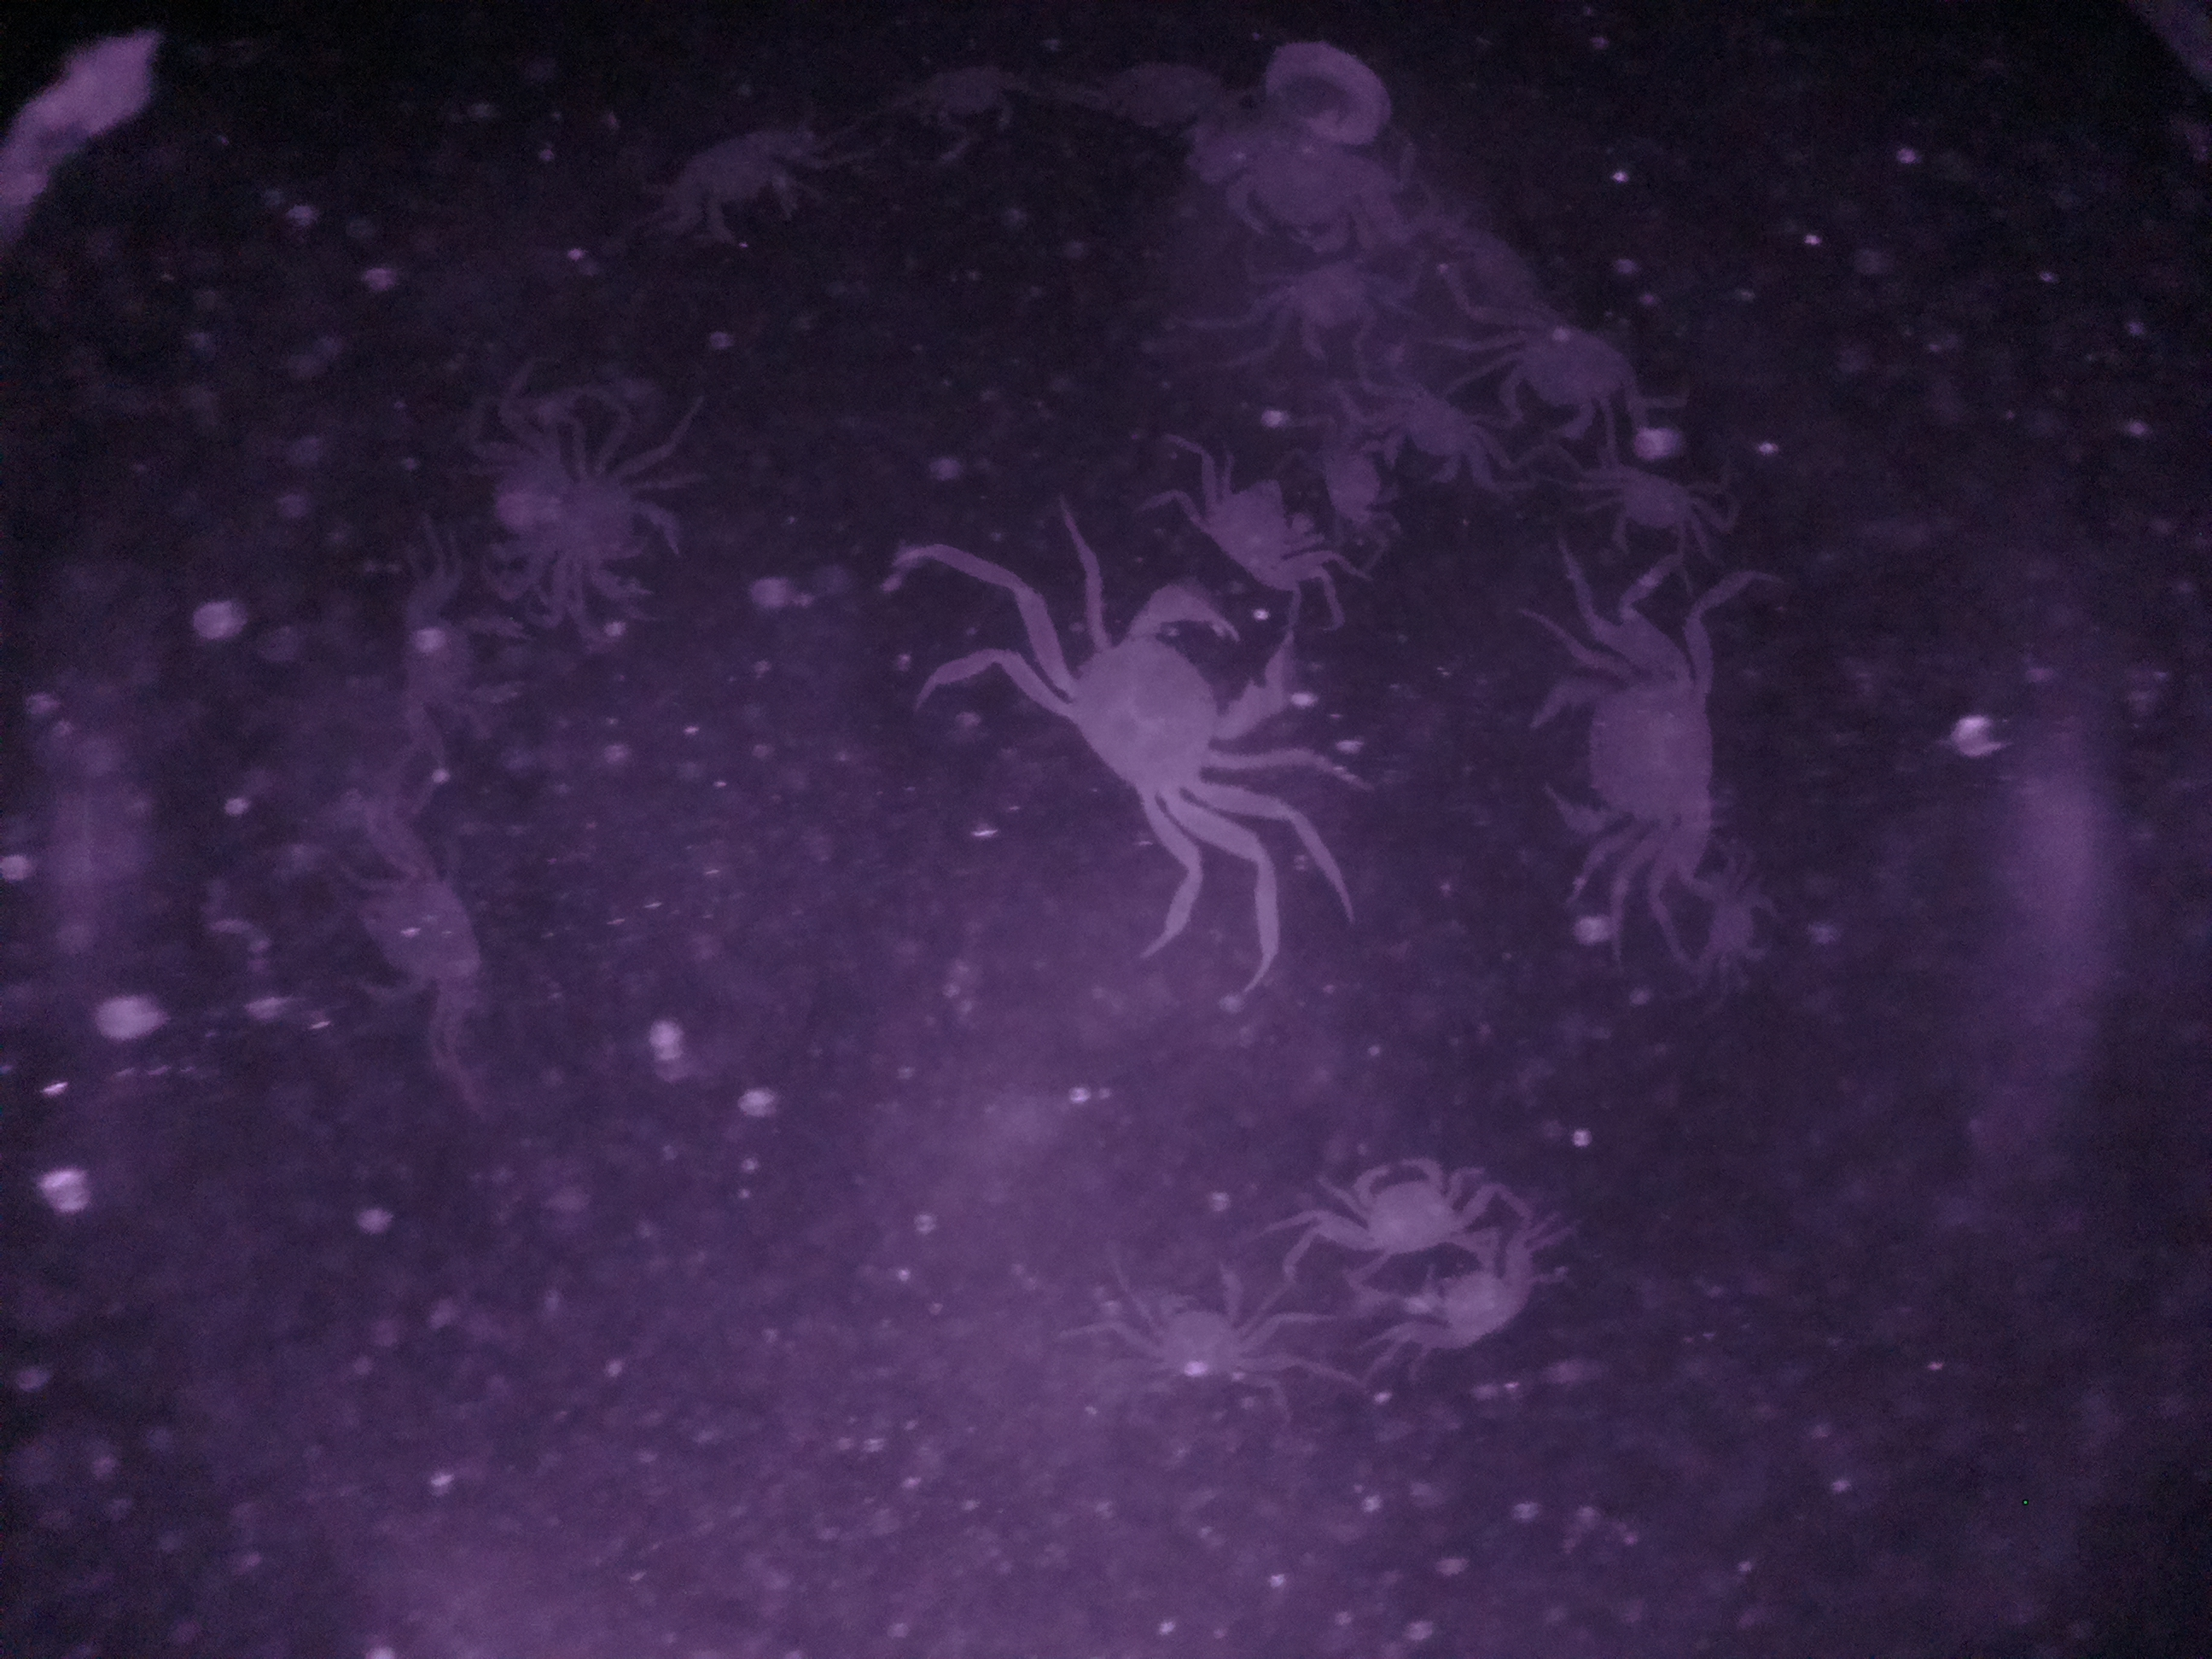Crab: (1021, 579, 1310, 863), (1531, 615, 1730, 864), (1470, 303, 1655, 453), (1183, 450, 1348, 612), (665, 105, 829, 256), (1315, 1148, 1491, 1272), (1244, 244, 1407, 369), (1585, 451, 1717, 563)
